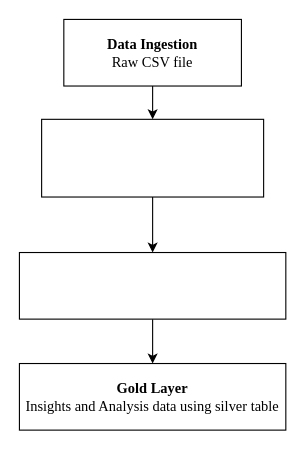
Some shapes in this 305 by 450 pixel diagram are drawn without their labels. Here are the shapes that lost their labels. From the top down, the box of each, then its label:
(41, 118, 264, 197): Bronze Layer Raw data from source exported as table
(18, 251, 286, 319): Silver Layer Data cleaning and transformations done fetched from bronze table
